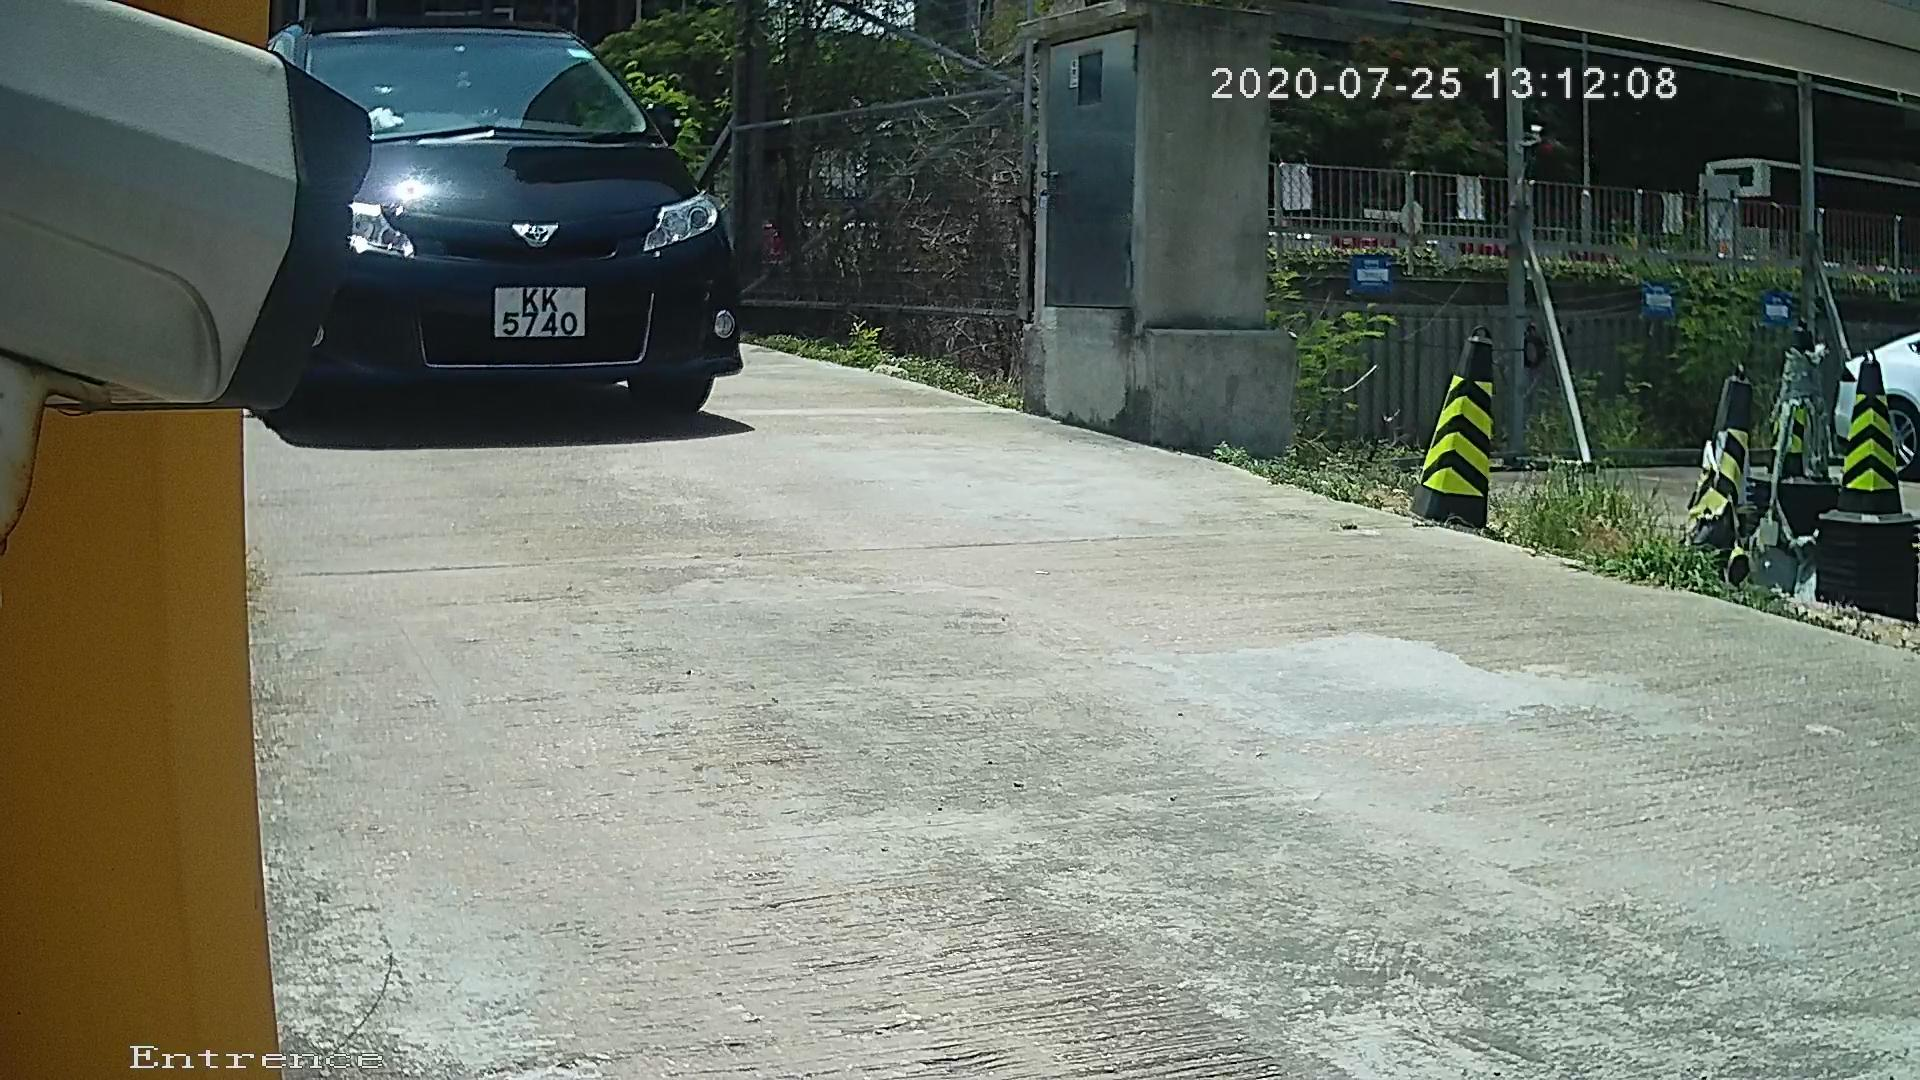Car: (146, 15, 875, 502)
License Plate: (474, 263, 603, 365)
